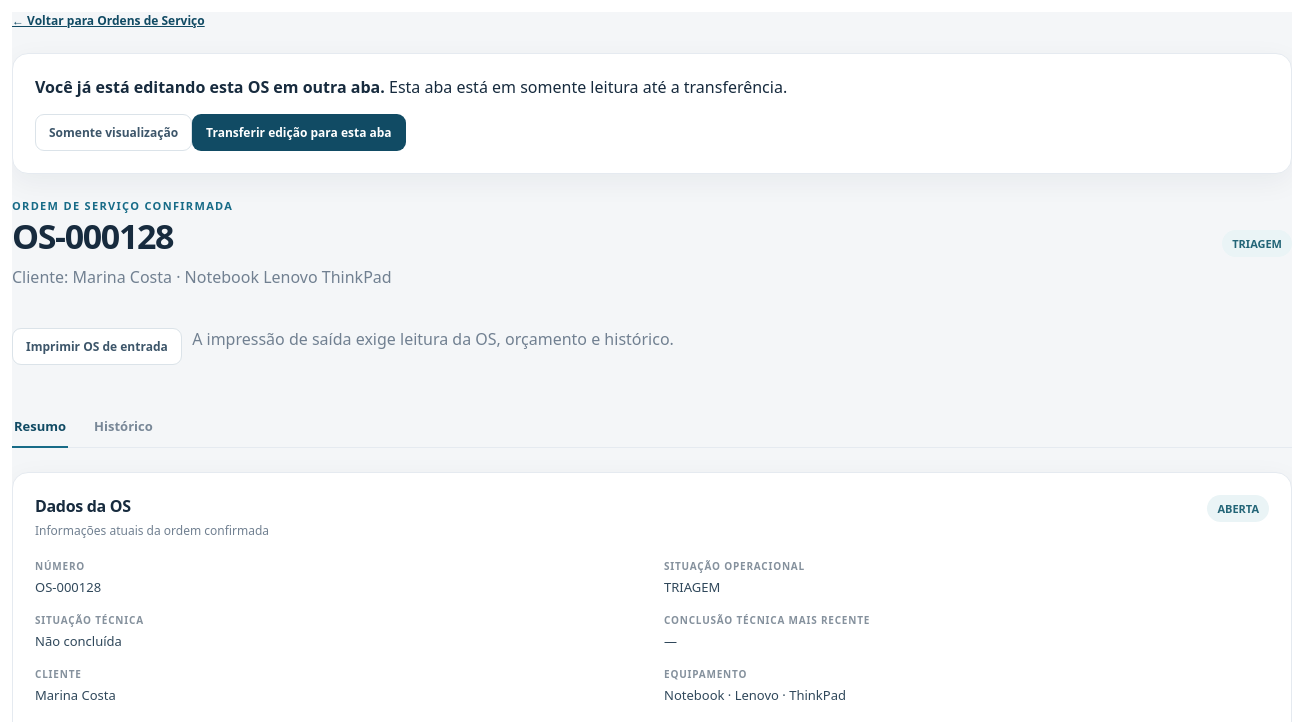
it: ServiceOrderDetailPage › permite escolher somente visualização em outra aba do mesmo usuário
What coordinates should you click on to do the following:
click the button "Somente visualização"
I would click on:
 (114, 132)
Its box is [35,114,192,151].
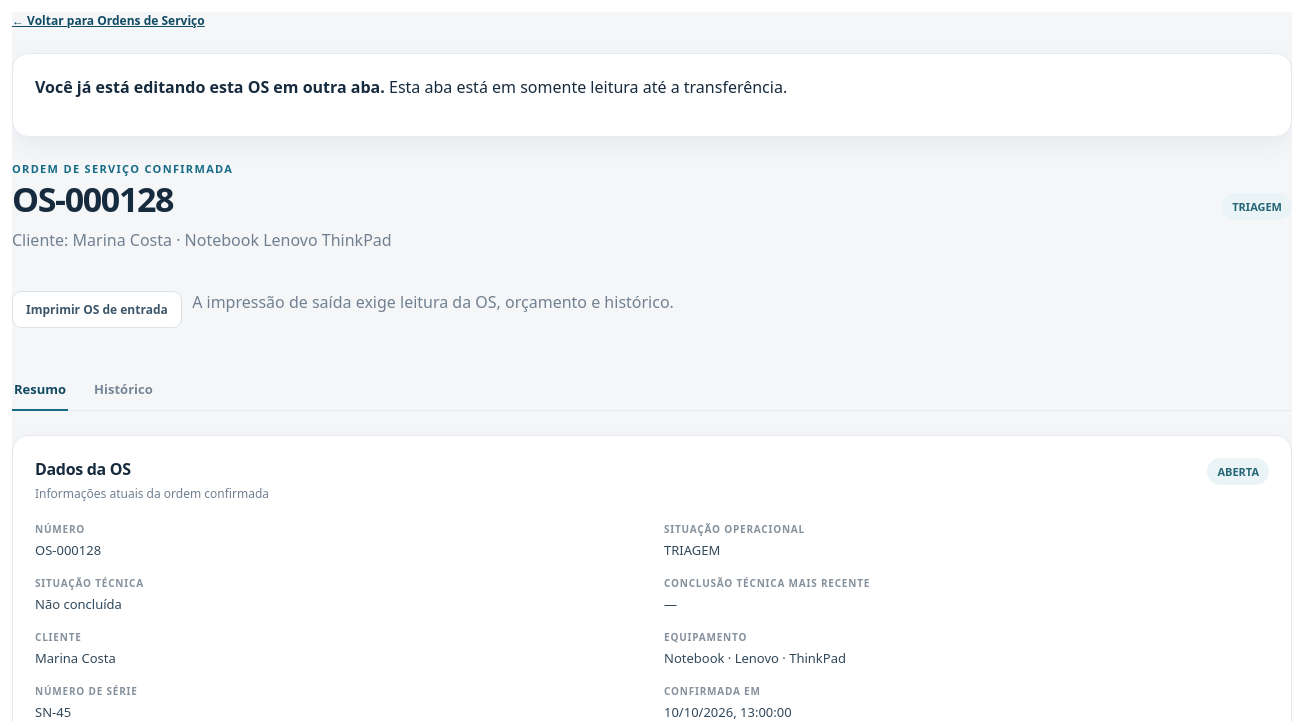
expect the text "Você já está editando esta OS em outra aba." is shown: met, box [35,76,385,98]
expect the button "Transferir edição para esta aba" is gone: met
